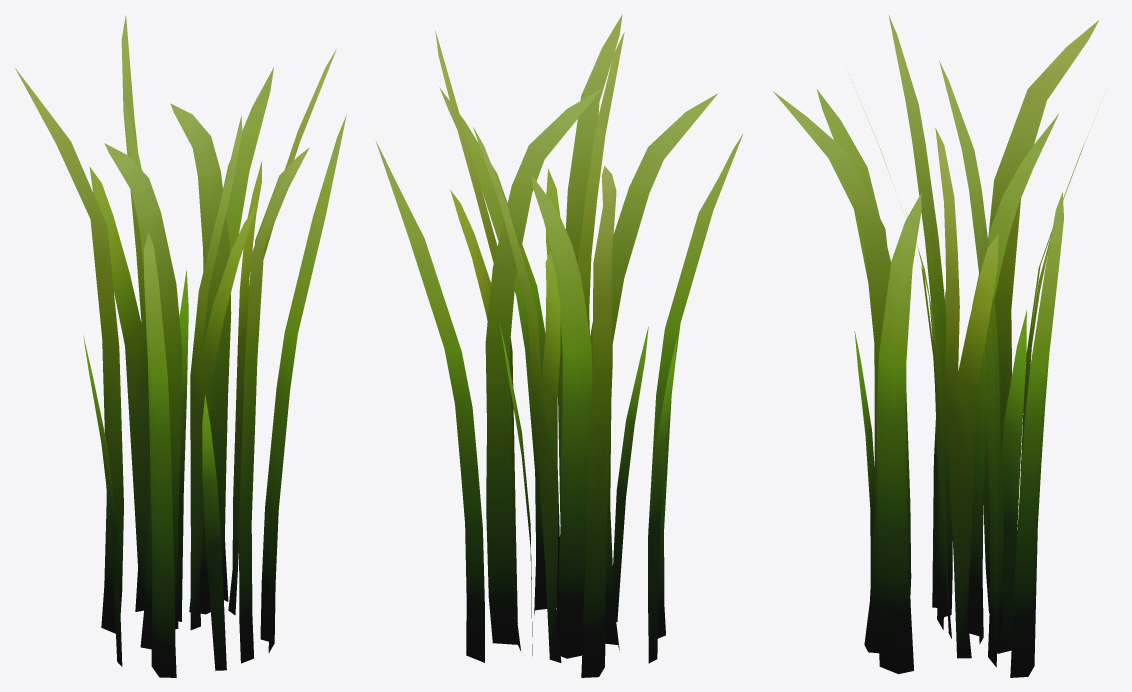
The model's file is grass-4.glb.
3 renders of one model, left to right at view 1: azimuth 30°, elevation 25°; view 2: azimuth 150°, elevation 25°; view 3: azimuth 270°, elevation 25°, orthographic. The views are drawn at different scales.
Visible parts, largest first — view 1: Grass_Common_Tall; view 2: Grass_Common_Tall; view 3: Grass_Common_Tall.
Boxes of the visible parts, x1,y1,x2,y2 form: Grass_Common_Tall: [15, 15, 346, 677]; Grass_Common_Tall: [375, 14, 743, 677]; Grass_Common_Tall: [773, 15, 1101, 677].
Bounding box in the file's own units: 0.1195 × 0.25 × 0.1326.
Materials: 1 (1 with a texture image).
